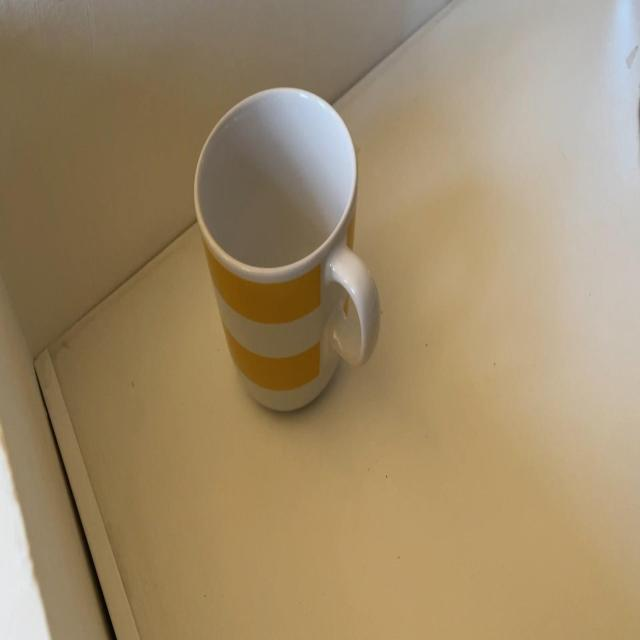cup: (192, 83, 380, 418)
